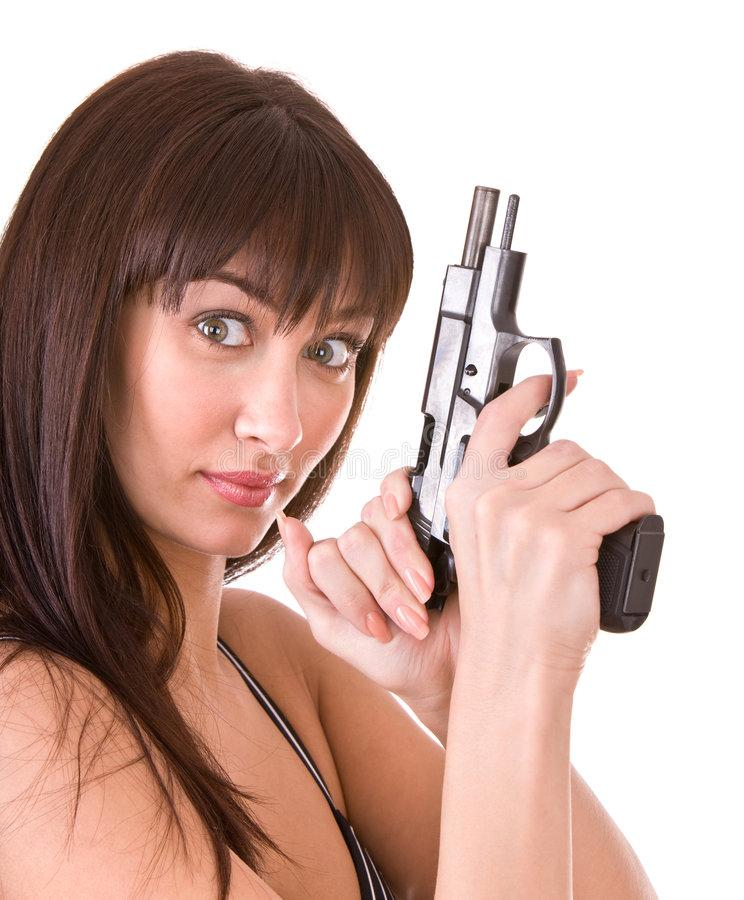criminal: (0, 46, 670, 900)
weapon: (397, 176, 668, 636)
